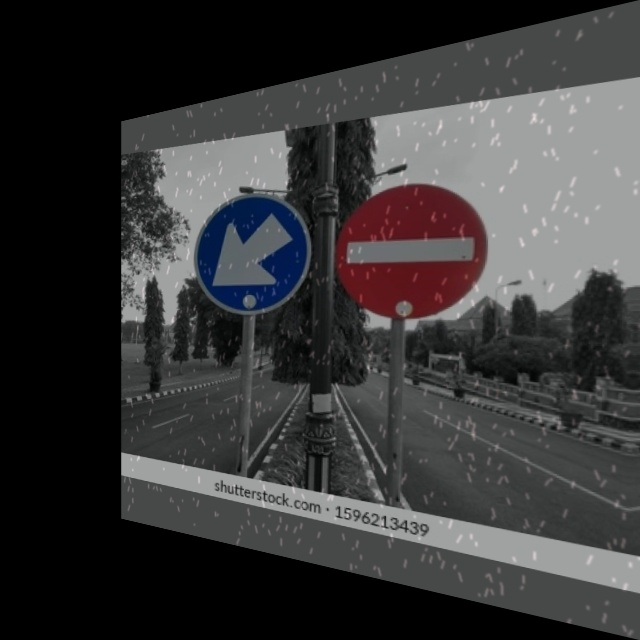Compulsory_Keep_Left: (194, 187, 308, 311)
